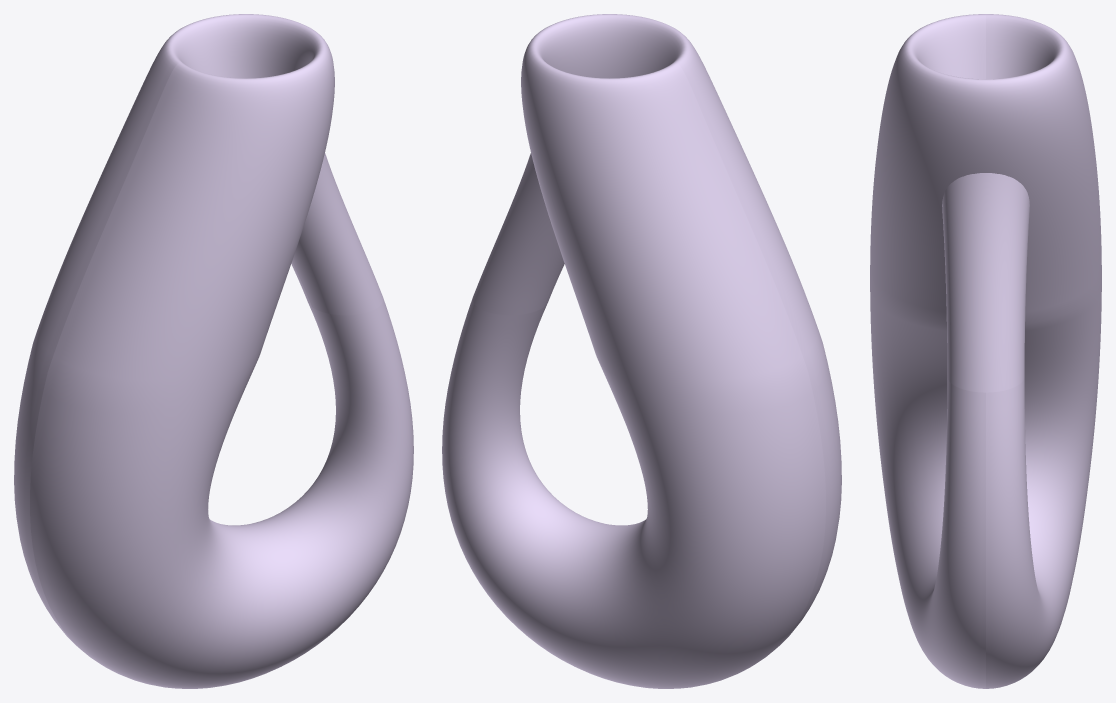
The model's file is ex_klein_bottle.glb.
The picture shows the model from 3 angles, left to right: view 1: azimuth 30°, elevation 25°; view 2: azimuth 150°, elevation 25°; view 3: azimuth 270°, elevation 25°; orthographic projection.
Visible parts, largest first — view 1: Klein; view 2: Klein; view 3: Klein.
Boxes of the visible parts, x1=… form: Klein: x1=14, y1=14, x2=413, y2=688; Klein: x1=442, y1=14, x2=841, y2=688; Klein: x1=870, y1=14, x2=1101, y2=688.
Size of the model in its own units: 3.2 by 5.05 by 1.68.
